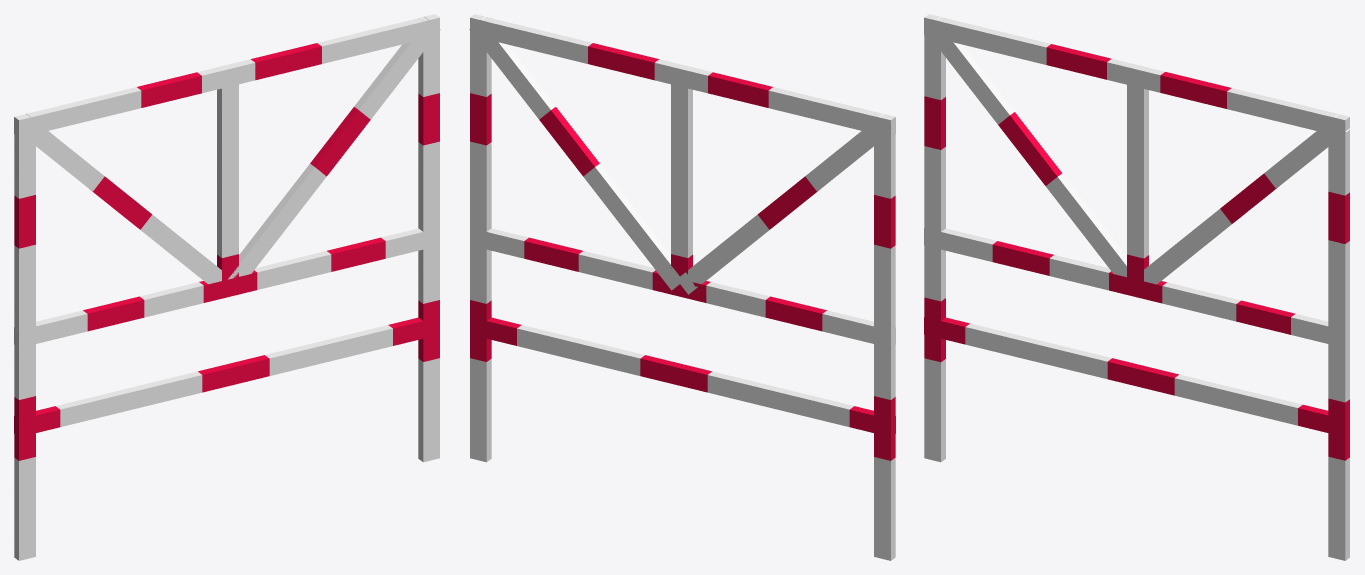
Rendered from Marcel_Benjamin_48675120.fbx.
3 views of the same model, side by side, from view 1: azimuth 30°, elevation 25°; view 2: azimuth 150°, elevation 25°; view 3: azimuth 330°, elevation 25° (orthographic).
Parts seen in each view (by area): view 1: Plane.005; view 2: Plane.005; view 3: Plane.005.
Boxes of the visible parts, bbox=[...] form: Plane.005: bbox=[14, 14, 440, 560]; Plane.005: bbox=[469, 14, 895, 560]; Plane.005: bbox=[924, 14, 1350, 560].
Bounding box in the file's own units: 100 × 100 × 2.
1 material, 1 textured.
